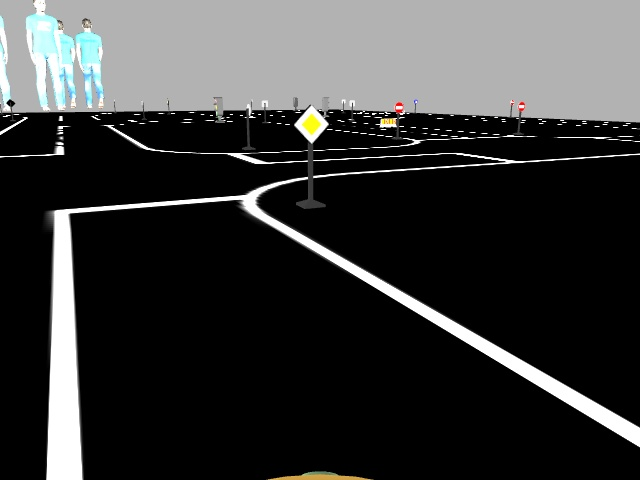Priority: (290, 103, 331, 143)
